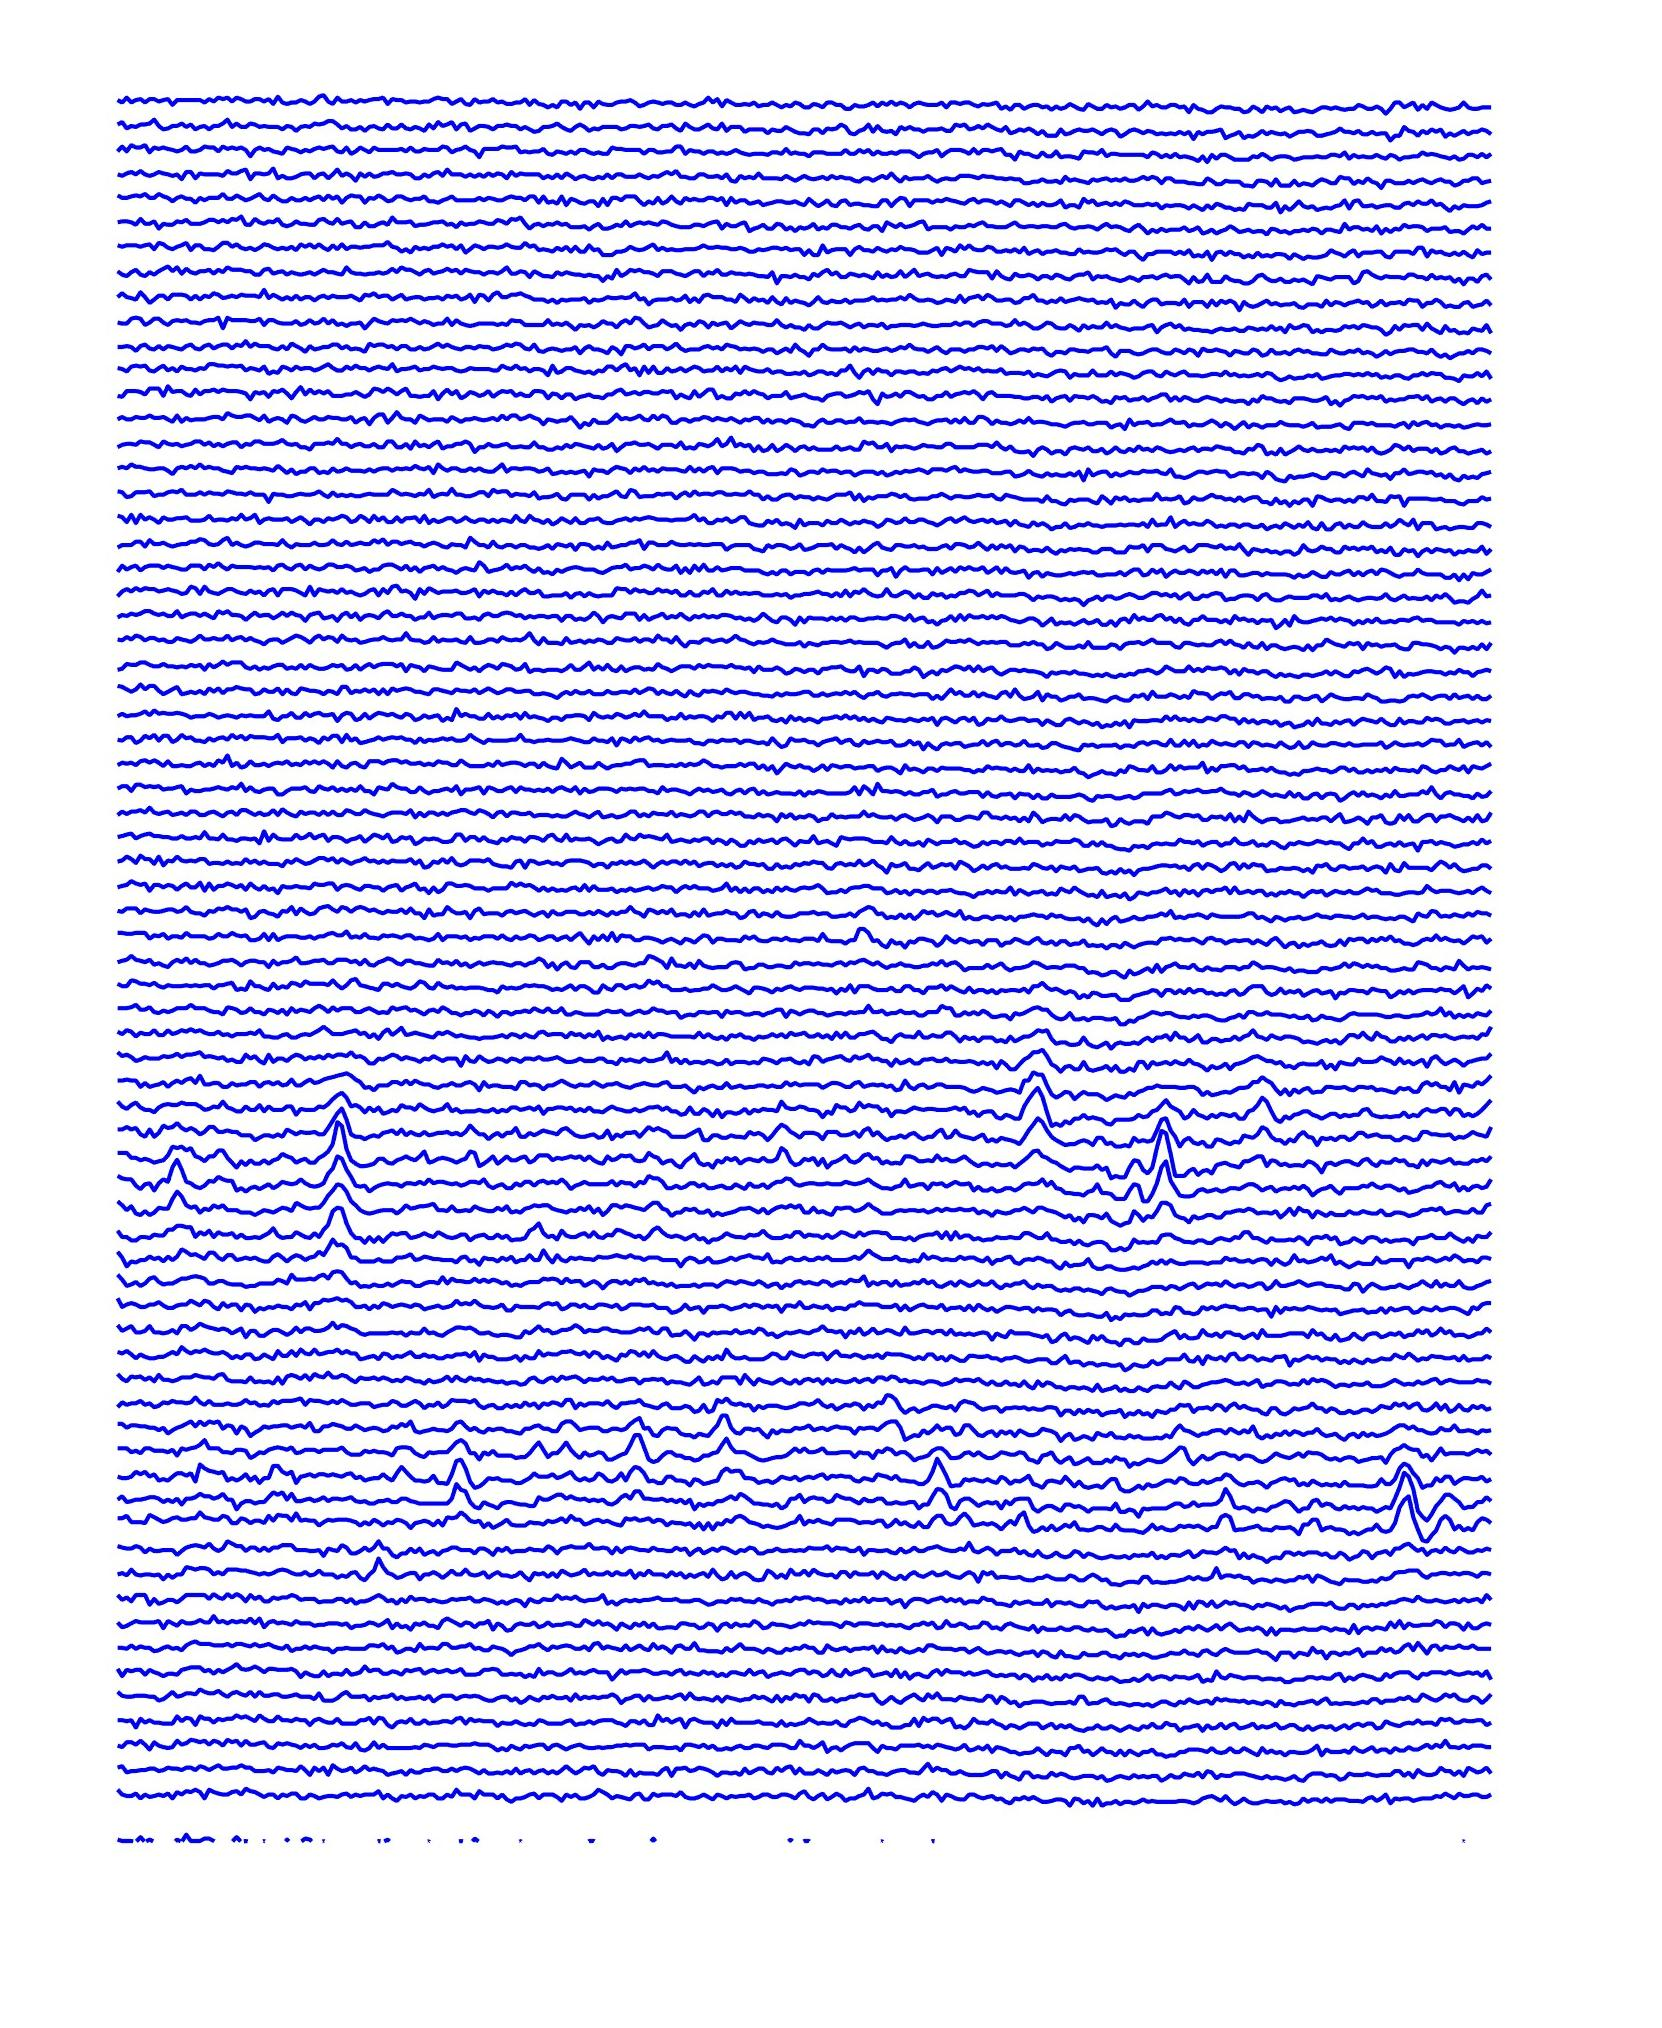defect: (306, 1086, 370, 1285), (1350, 1433, 1435, 1556), (684, 1381, 781, 1477), (1138, 1090, 1192, 1241), (1022, 1006, 1068, 1174), (434, 1413, 485, 1560), (603, 1398, 665, 1509), (923, 1442, 968, 1555), (1164, 1403, 1202, 1481), (1206, 1479, 1248, 1546), (871, 1373, 904, 1449)
